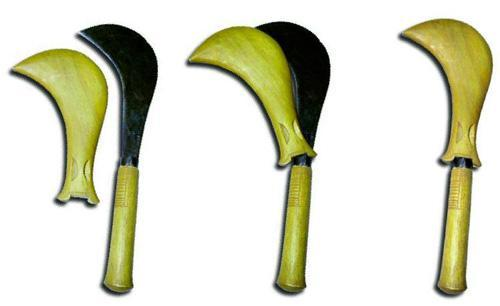foice: (232, 22, 316, 293), (400, 16, 478, 294), (72, 24, 143, 294)
